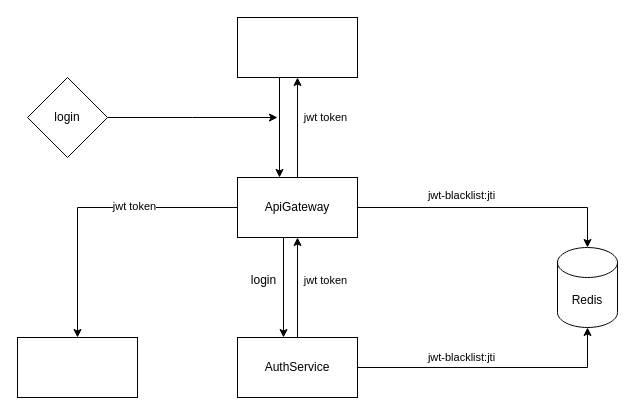
This 635x415 diagram has some shape labels left out. Each missing label, with the centre of its shape:
Client: the point at 297,47
OtherService: the point at 77,367
